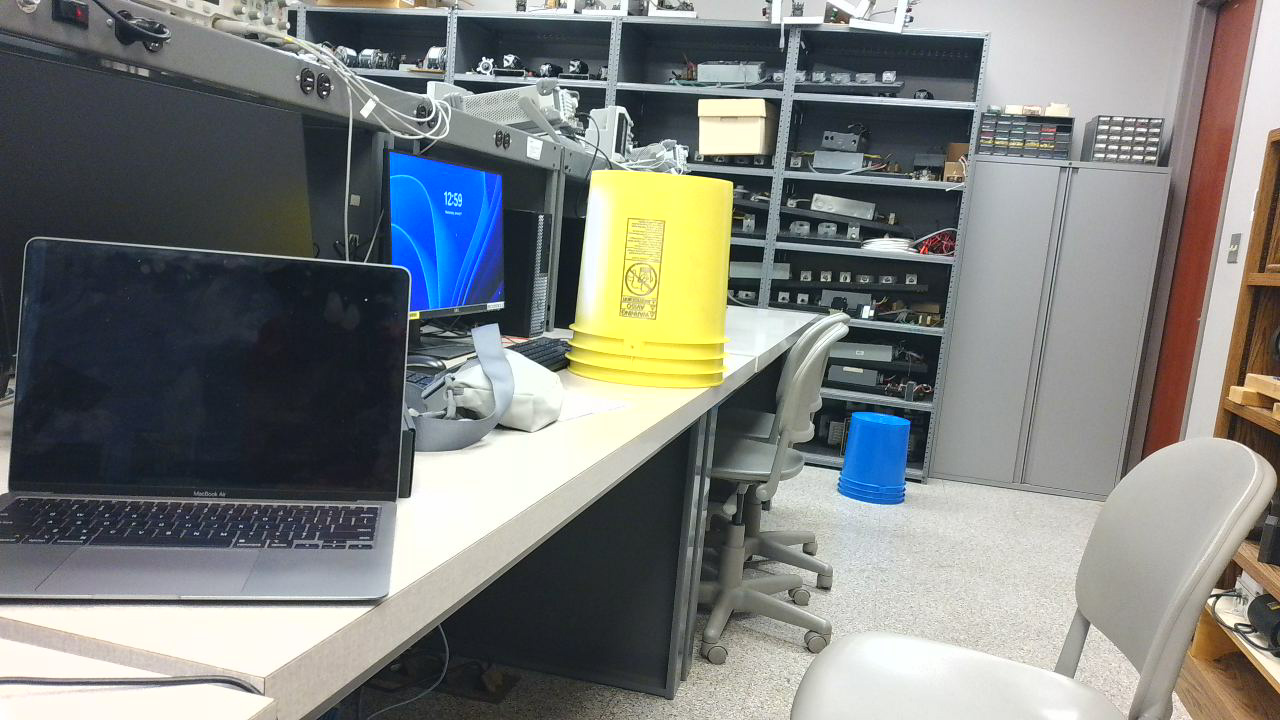blue_bucket: (838, 411, 921, 515)
yellow_bucket: (563, 171, 745, 400)
